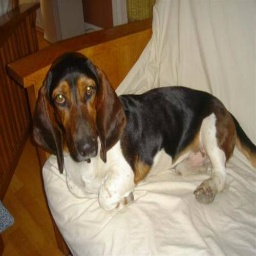dog: (27, 54, 244, 213)
